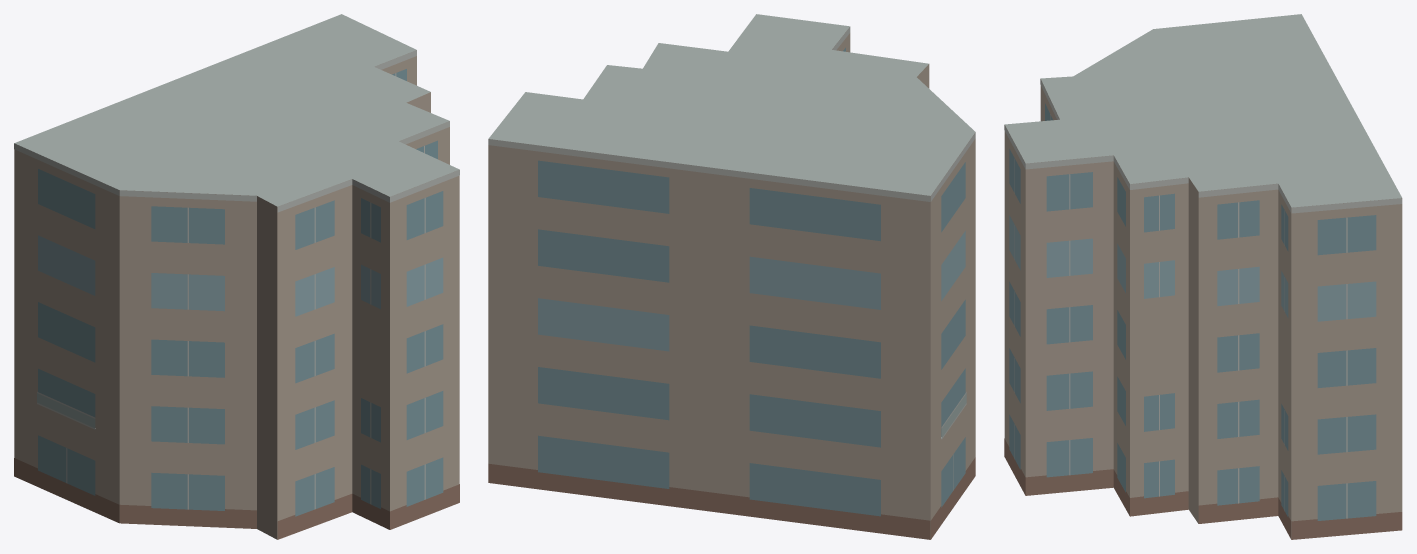
Rendered from survey-upis-32569361.glb.
3 views of the same model, side by side, from view 1: azimuth 30°, elevation 25°; view 2: azimuth 150°, elevation 25°; view 3: azimuth 270°, elevation 25° (orthographic). The views are drawn at different scales.
Parts seen in each view (by area): view 1: survey-upis-32569361.tmp; view 2: survey-upis-32569361.tmp; view 3: survey-upis-32569361.tmp.
Boxes of the visible parts, bbox=[...] form: survey-upis-32569361.tmp: bbox=[14, 14, 459, 539]; survey-upis-32569361.tmp: bbox=[488, 14, 975, 539]; survey-upis-32569361.tmp: bbox=[1004, 14, 1402, 539].
Bounding box in the file's own units: 17 × 13.6 × 14.77.
